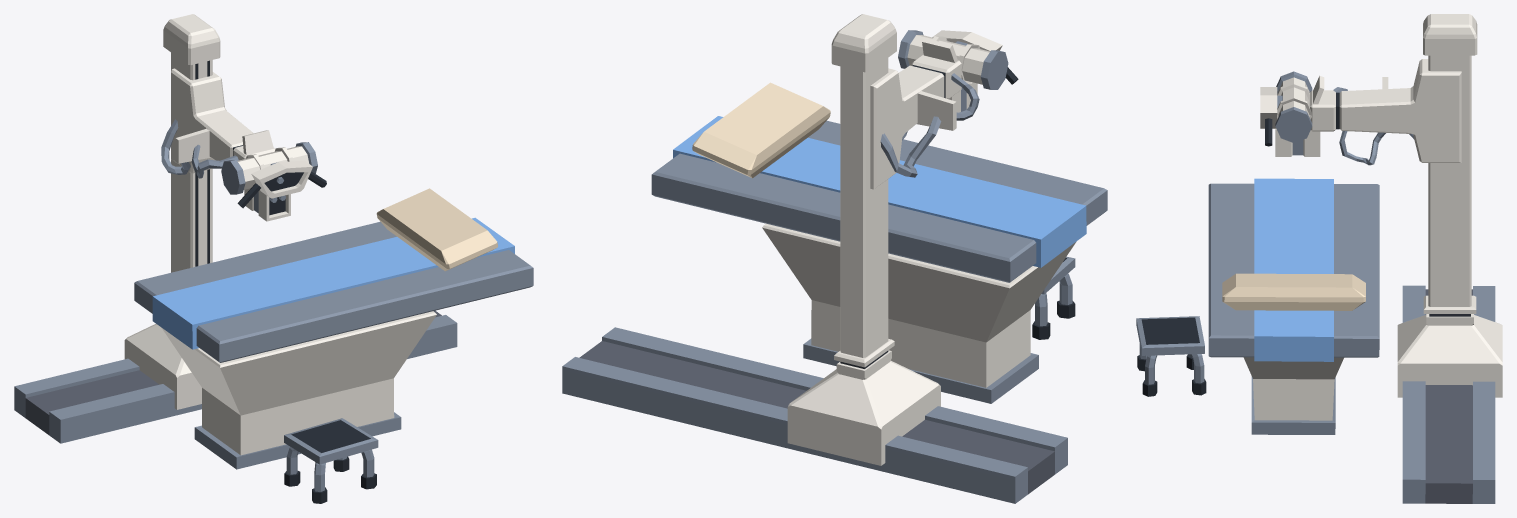
File: g_o_XrayMachine.fbx
3 views of the same model, side by side, from view 1: azimuth 30°, elevation 25°; view 2: azimuth 150°, elevation 25°; view 3: azimuth 270°, elevation 25° (orthographic). The views are drawn at different scales.
Parts seen in each view (by area): view 1: Xray_Machine; view 2: Xray_Machine; view 3: Xray_Machine.
Part boxes in pixels (<box>): Xray_Machine: <box>14,14,533,503</box>; Xray_Machine: <box>562,14,1107,503</box>; Xray_Machine: <box>1136,14,1502,503</box>.
Size of the model in its own units: 210 by 185 by 167.
